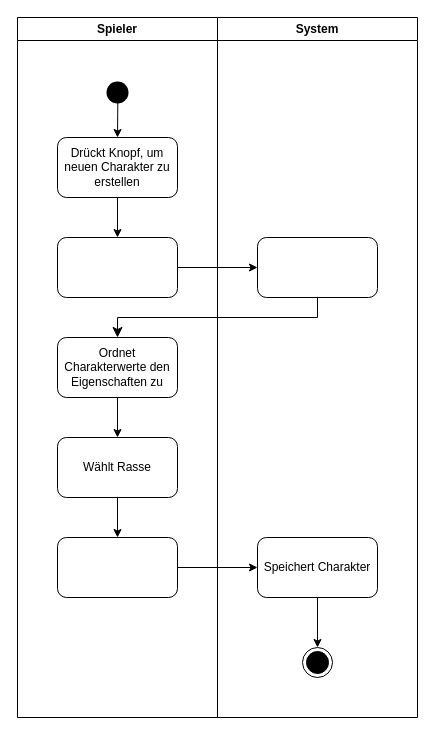
Some shapes in this 435 by 735 pixel diagram are drawn without their labels. Here are the shapes that lost their labels. From the top down, the centre of each, then its label:
[117,267]: Wählt eine Charakterklasse
[317,267]: Berechnet Charakterwerte
[117,567]: Legt Namen fest
